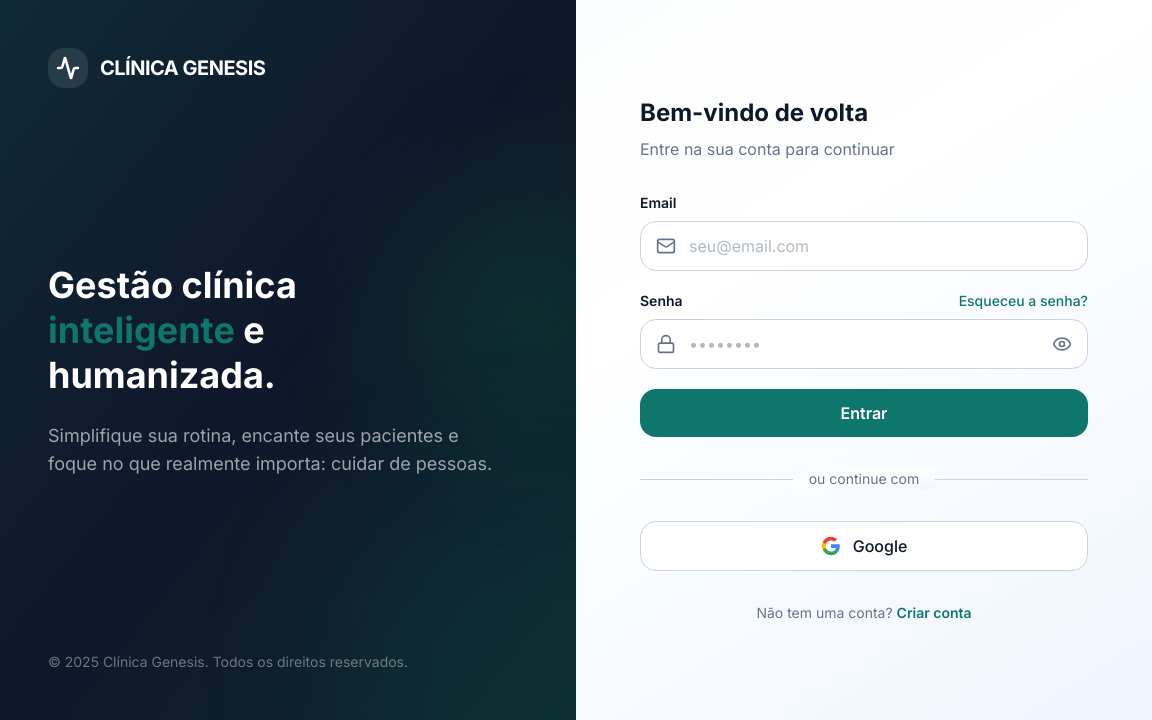
Test: Login › form submission › should show loading state during submission
Type "test@example.com" into the field labelled "Email" at [864, 246], box [640,221,1088,271]
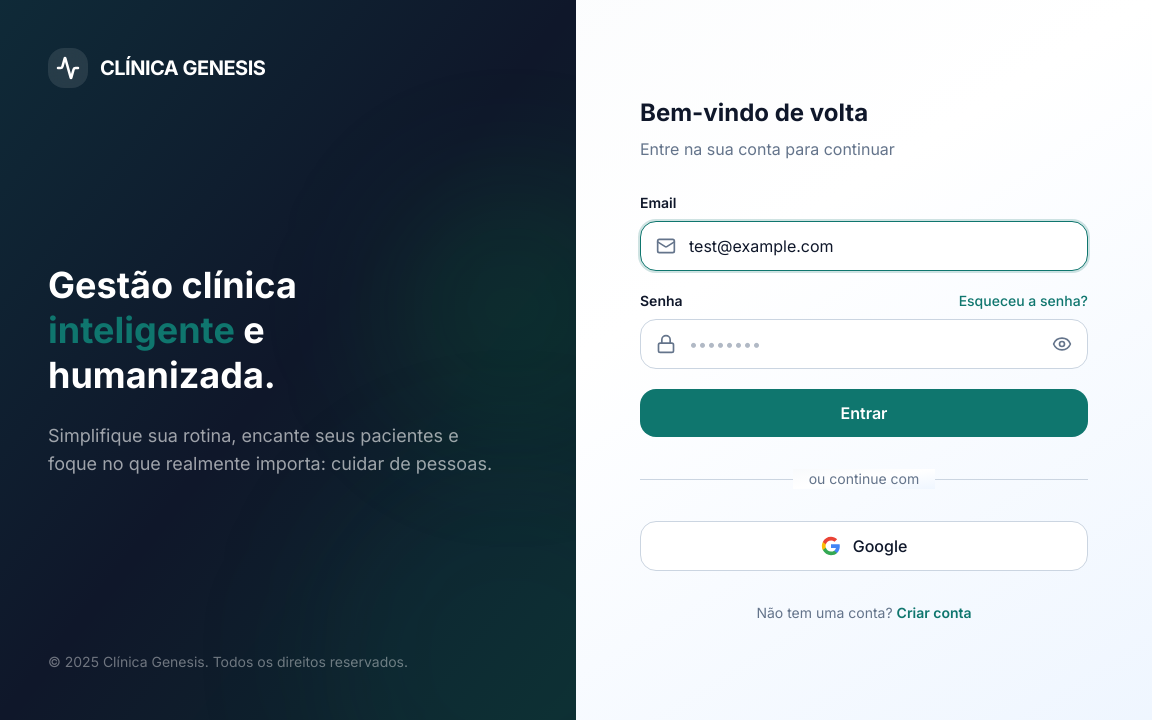
Type "password123" into the password field labelled "Senha" at [864, 344], box [640,319,1088,369]
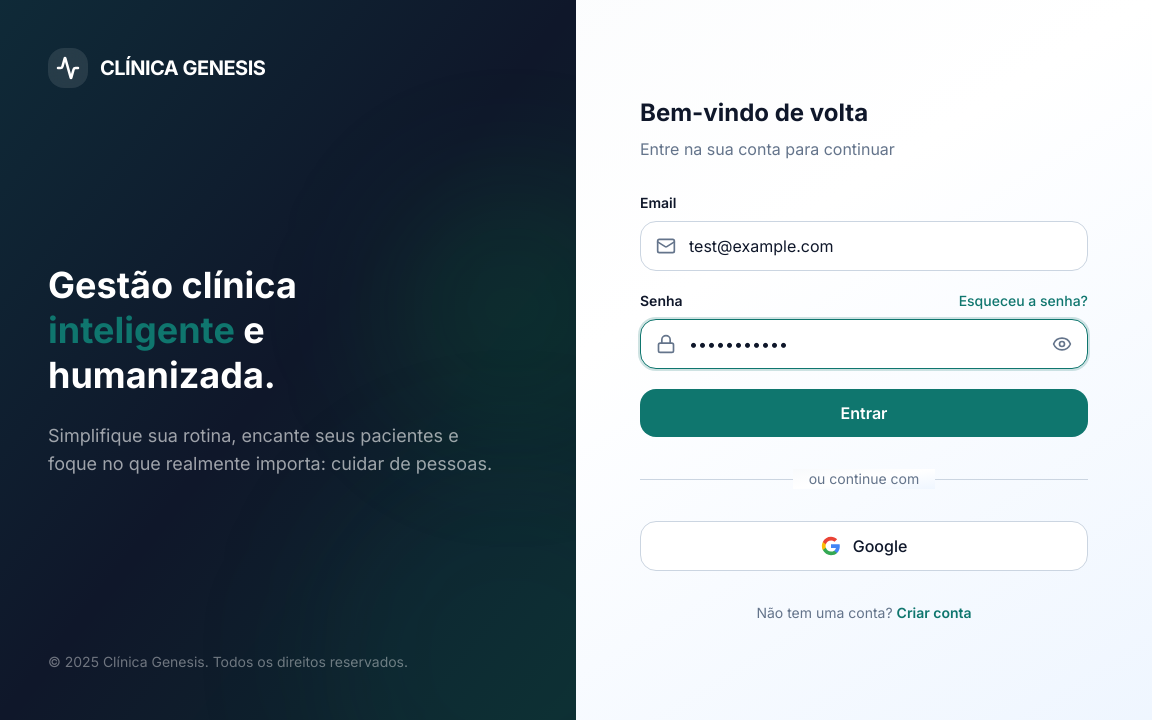
Click the button "Entrar" at [864, 413], box [640,389,1088,437]
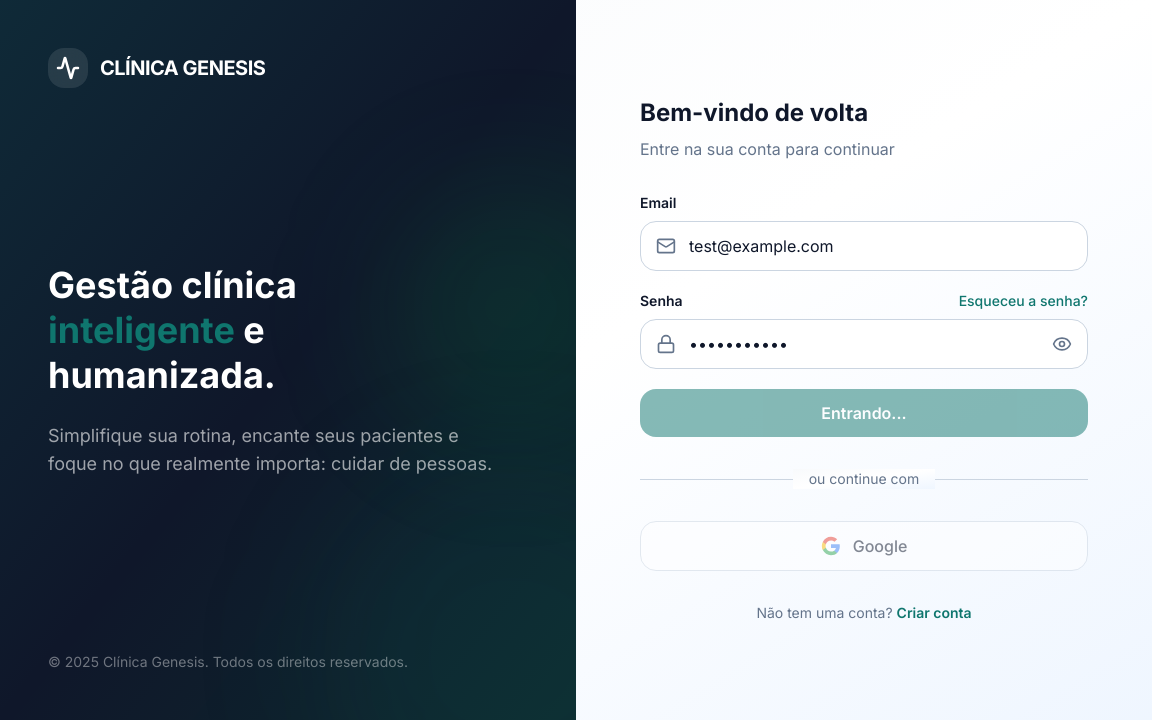
Expected: the button "Entrando..." is shown, [640,389,1088,437]
